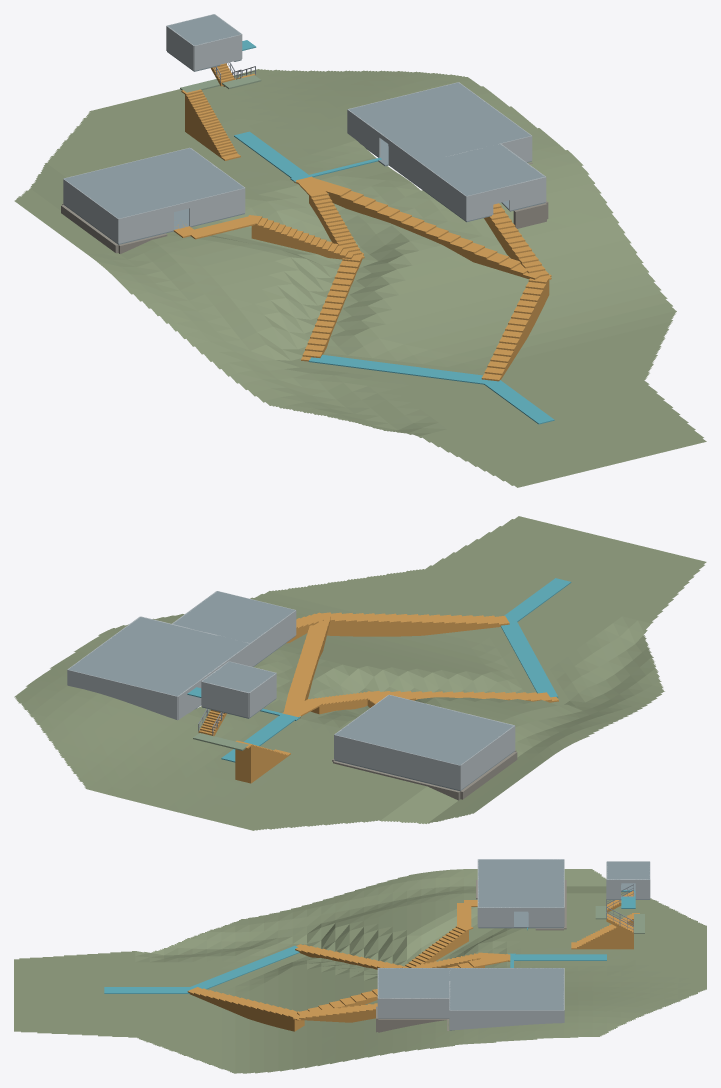
File: joined-stairs.glb
3 views of the same model, one above another, from view 1: azimuth 30°, elevation 25°; view 2: azimuth 150°, elevation 25°; view 3: azimuth 270°, elevation 25° (orthographic). The views are drawn at different scales.
Visible parts, largest first — view 1: Saved editor stair bench terrain WLD-04, Ceiling cap ruin, Ceiling cap hut, Ceiling cap store, Bayed shell Wall hut S, Opened stair shell Wall store S, L02 support 0, Wall hut W, Ceiling cap cab, Wall cab S, Wall store W, Flat route shell Wall ruin W (+2 smaller); view 2: Saved editor stair bench terrain WLD-04, Ceiling cap ruin, Ceiling cap hut, Ceiling cap store, Wall hut N, Wall ruin N, Wall hut W, L02 support 0, Ceiling cap cab, Wall cab N, Wall store W, Wall cab W (+3 smaller); view 3: Saved editor stair bench terrain WLD-04, Ceiling cap ruin, Ceiling cap hut, Ceiling cap store, Wall ruin E, Wall store E, L02 support 0, Ceiling cap cab, Flat route shell Wall hut E.001, Flat route shell Wall hut E, Bayed stair WLD-04 L06 step1.
Boxes of the visible parts, x1,y1,x2,y2 form: Saved editor stair bench terrain WLD-04: (14, 69, 706, 487); Ceiling cap ruin: (348, 82, 530, 162); Ceiling cap hut: (64, 148, 243, 218); Ceiling cap store: (421, 144, 544, 195); Bayed shell Wall hut S: (118, 188, 245, 243); Opened stair shell Wall store S: (466, 177, 545, 220); L02 support 0: (308, 354, 489, 384); Wall hut W: (63, 179, 118, 243); Ceiling cap cab: (168, 14, 241, 45); Wall cab S: (194, 34, 241, 70); Wall store W: (420, 163, 466, 220); Flat route shell Wall ruin W: (347, 109, 380, 157); Saved editor stair bench terrain WLD-04: (14, 516, 706, 830); Ceiling cap ruin: (68, 617, 249, 696); Ceiling cap hut: (335, 695, 513, 765); Ceiling cap store: (173, 591, 294, 643); Wall hut N: (334, 735, 460, 790); Wall ruin N: (67, 669, 177, 720); Wall hut W: (460, 725, 515, 789); L02 support 0: (500, 620, 558, 697); Ceiling cap cab: (202, 661, 275, 692); Wall cab N: (201, 681, 248, 717); Wall store W: (250, 610, 296, 666); Wall cab W: (249, 673, 276, 717); Saved editor stair bench terrain WLD-04: (14, 869, 706, 1073); Ceiling cap ruin: (449, 968, 563, 1010); Ceiling cap hut: (478, 859, 563, 907); Ceiling cap store: (378, 968, 449, 998); Wall ruin E: (449, 1010, 563, 1029); Wall store E: (378, 998, 449, 1017); L02 support 0: (191, 946, 299, 989); Ceiling cap cab: (607, 861, 649, 879); Flat route shell Wall hut E.001: (478, 907, 513, 927); Flat route shell Wall hut E: (528, 907, 563, 927); Bayed stair WLD-04 L06 step1: (457, 903, 471, 927).
Bounding box in the file's own units: 59 × 19.15 × 97.
Materials: 27 (9 with a texture image).
